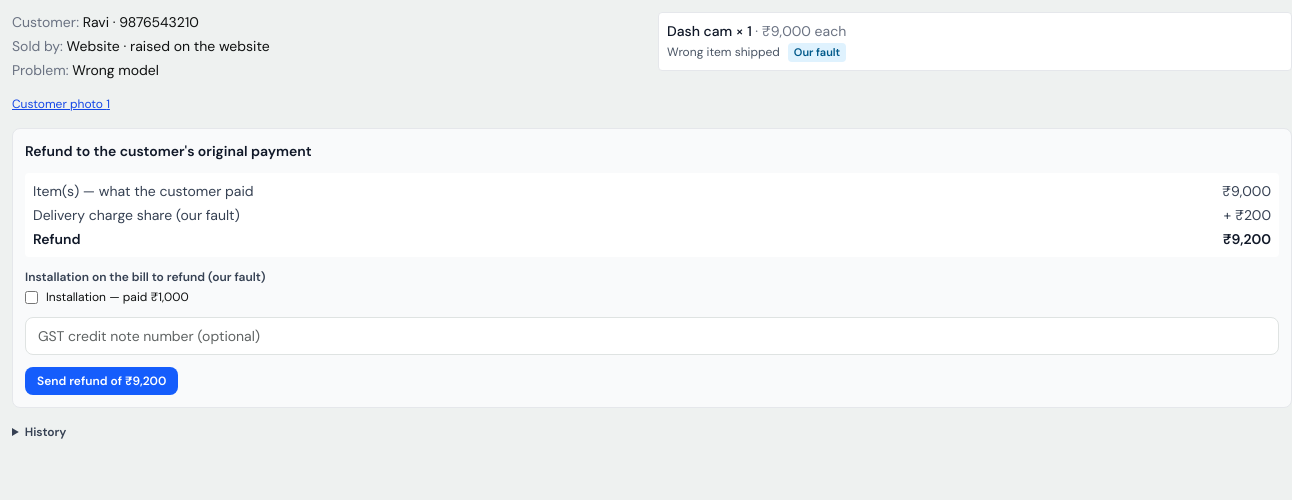
Test: the refund box (accounts) › changing what is ticked drops back to the first step, so the confirmed amount is the one on screen
Click the button "Send refund of ₹9,200".
click(102, 381)  # box 25,367 -> 178,395
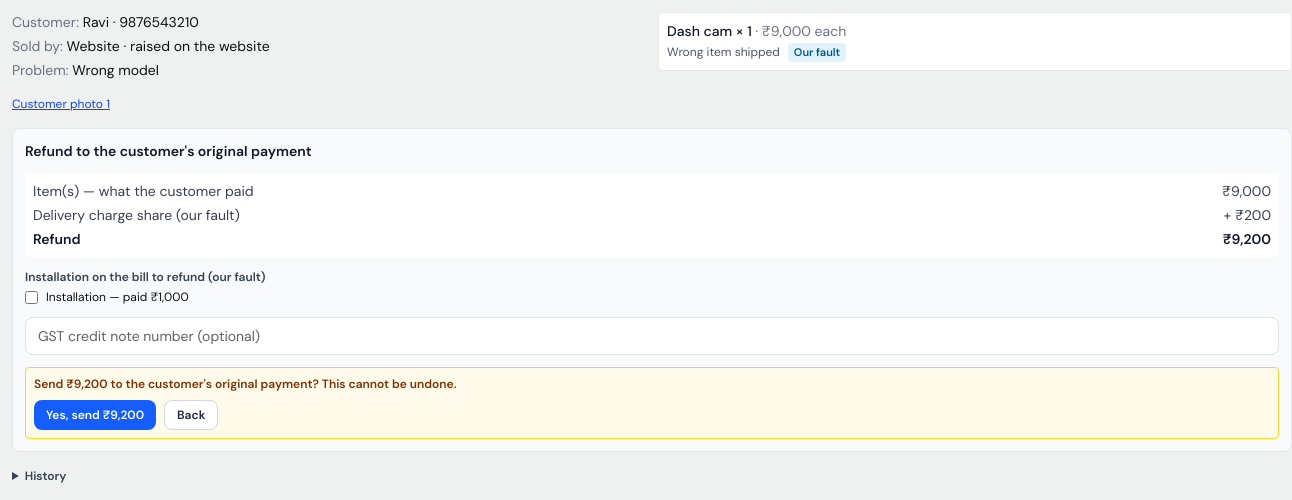
Now the button "Yes, send ₹9,200" is shown, box 34,400 -> 156,430
Click the checkbox labelled "Installation — paid ₹1,000".
click(32, 297)  # box 25,290 -> 38,304
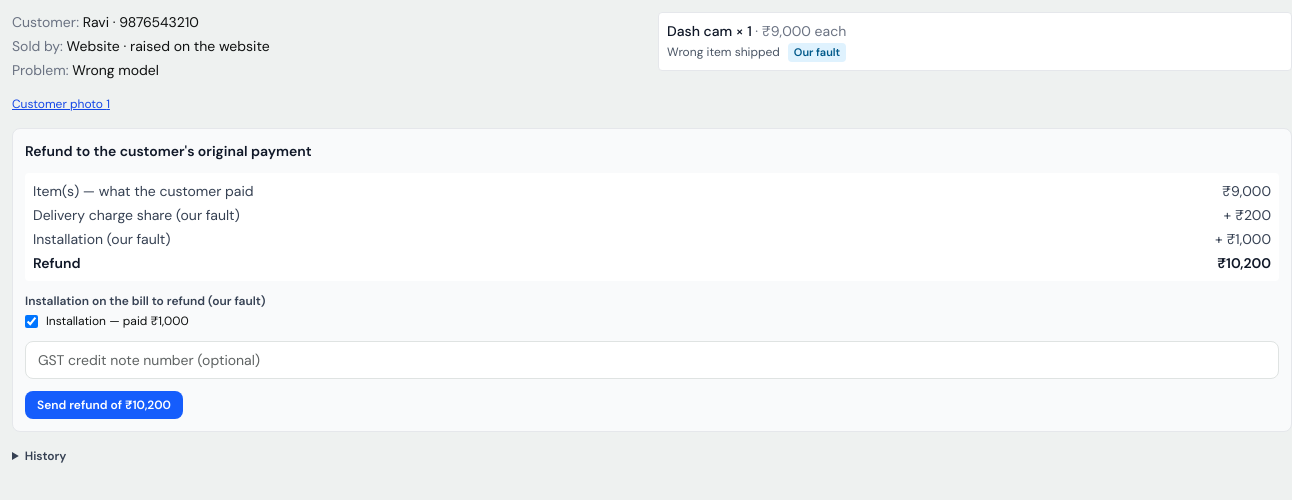
Now the button "Yes, send" is gone
Now the button "Send refund of ₹10,200" is enabled, box 25,391 -> 183,419
